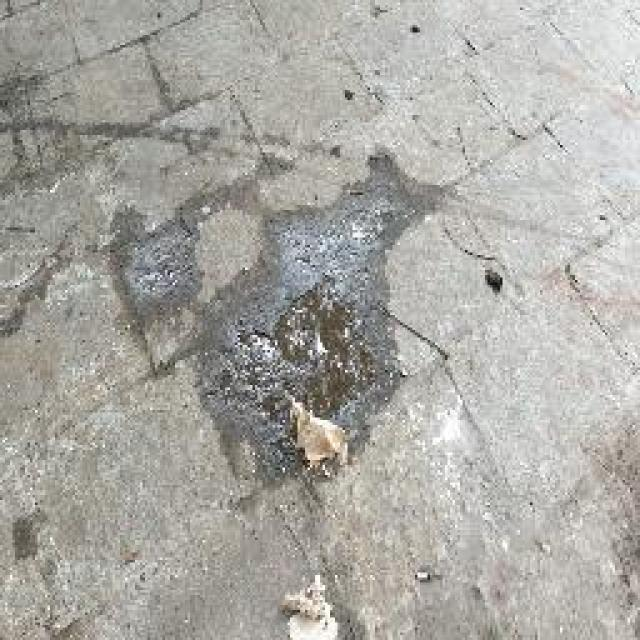stagnation: (204, 266, 383, 422)
